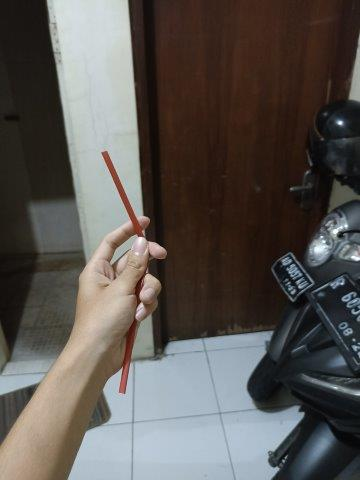sedotan: (101, 151, 145, 391)
